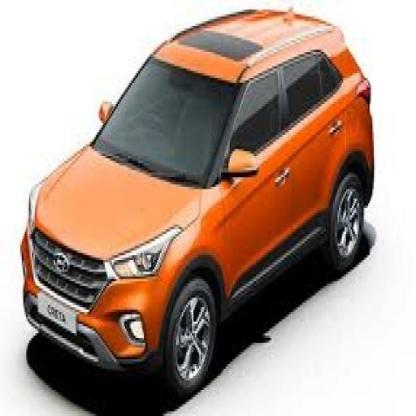car: (15, 4, 383, 415)
